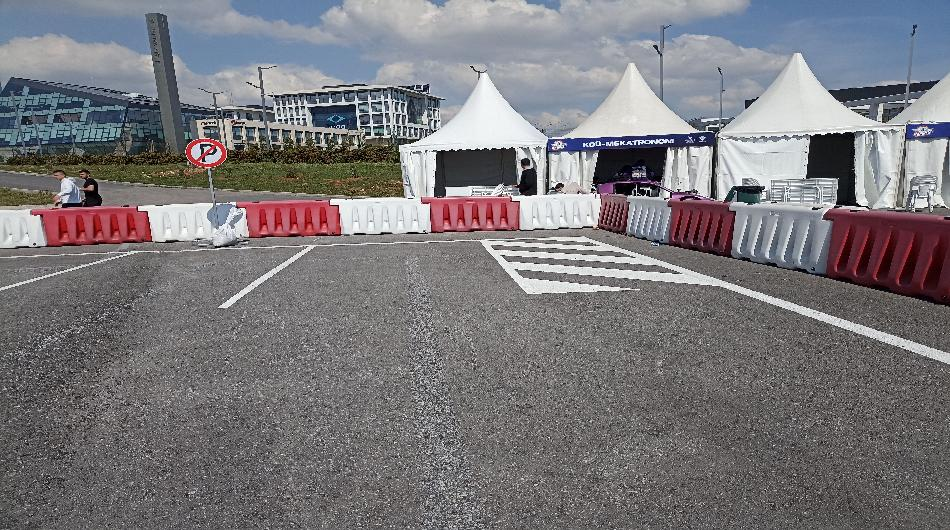park_yapilmaz_3: (184, 138, 225, 165)
park_yapilmaz_yerde: (474, 233, 736, 298)
